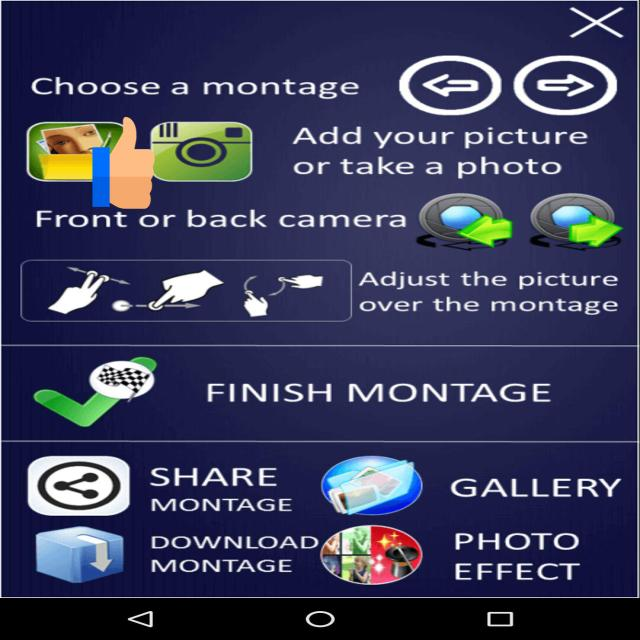privacy zuckering: (92, 115, 154, 211)
